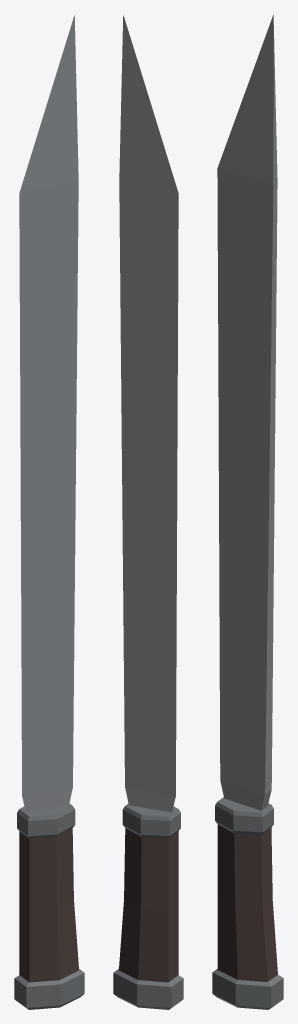
File: Falchion.002.fbx
3 renders of one model, left to right at view 1: azimuth 30°, elevation 25°; view 2: azimuth 150°, elevation 25°; view 3: azimuth 330°, elevation 25°, orthographic.
Parts seen in each view (by area): view 1: Falchion.002; view 2: Falchion.002; view 3: Falchion.002.
Boxes of the visible parts, x1,y1,x2,y2 form: Falchion.002: (14,15,84,1009); Falchion.002: (113,15,183,1009); Falchion.002: (212,14,283,1009).
Bounding box in the file's own units: 4.28 × 67.6 × 2.98.
